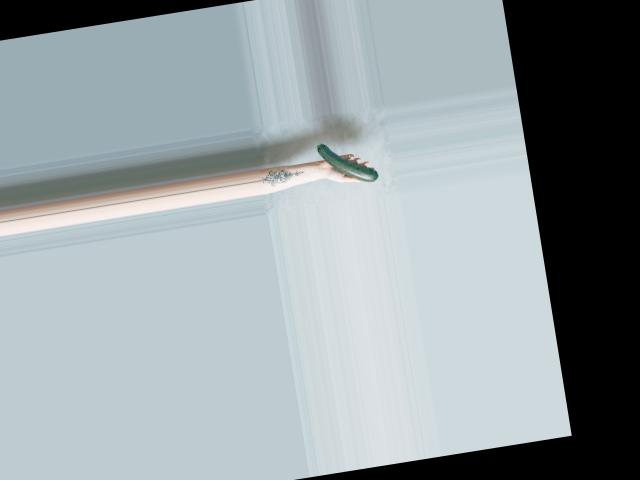cucumber: (317, 135, 379, 188)
